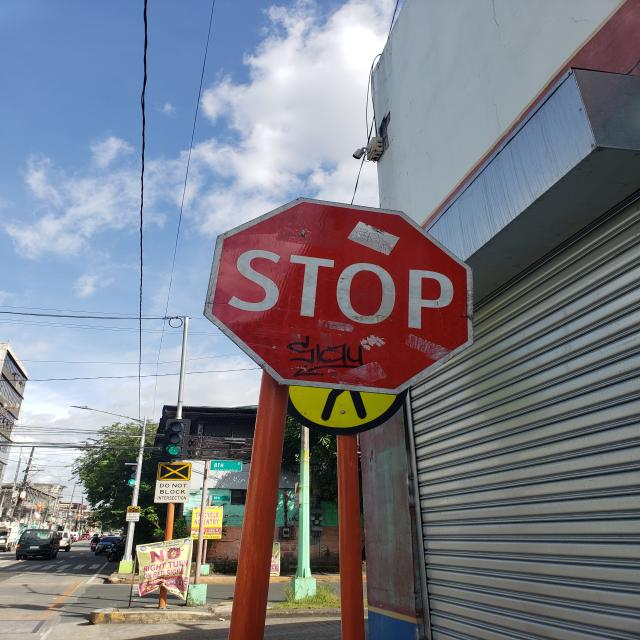stop-sign: (203, 196, 474, 396)
